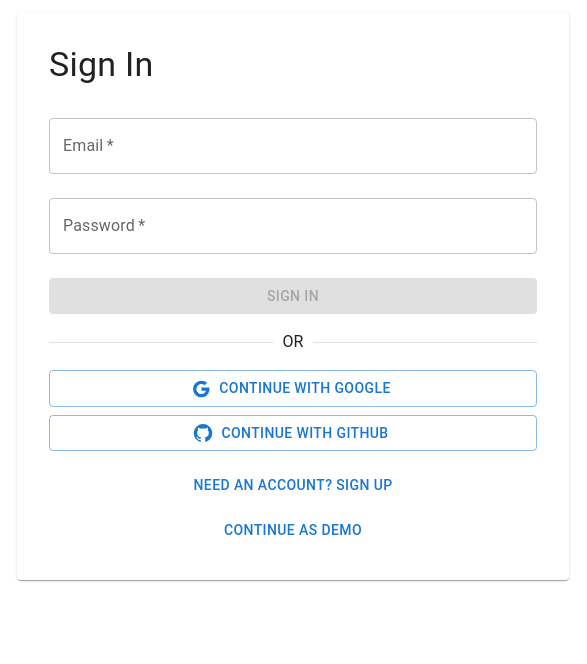
it: AuthPage › displays error message on sign in failure
This screenshot has width=587, height=664.
Type "test@example.com" into the field labelled "Email *".
click(293, 146); type("test@example.com")  # box [49, 118, 537, 174]
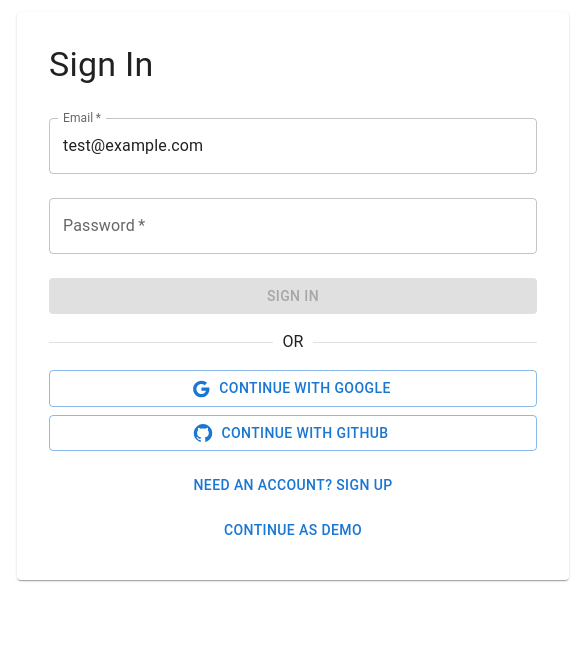
Type "wrongpassword" into the password field labelled "Password *".
click(293, 226); type("wrongpassword")  # box [49, 198, 537, 254]
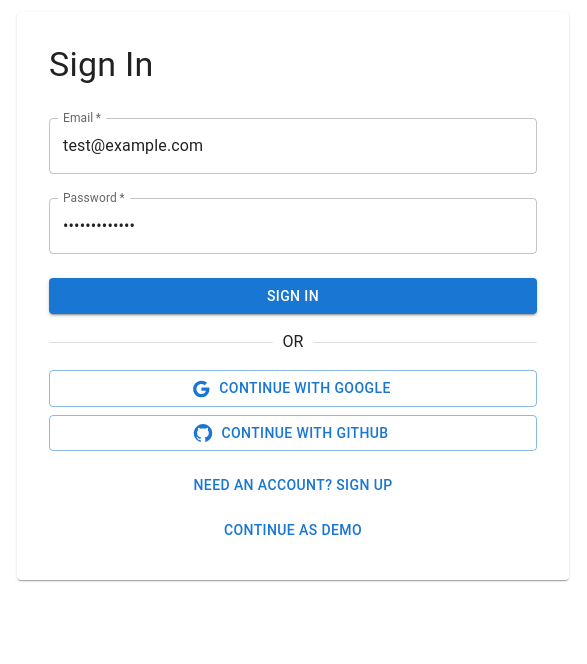
Expected: the button "Sign In" is enabled
Click the button "Sign In".
click(293, 296)  # box [49, 278, 537, 314]
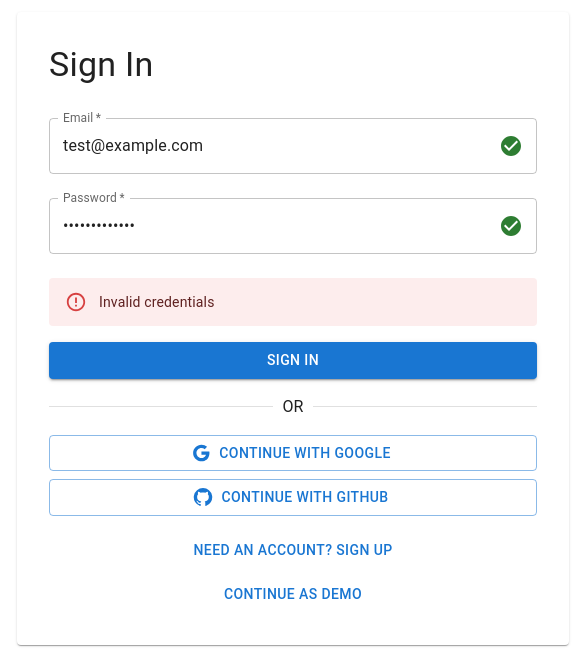
Expected: the message "Invalid credentials" is shown, [49, 278, 537, 326]
Expected: the text "Invalid credentials" is shown, [99, 294, 214, 310]
